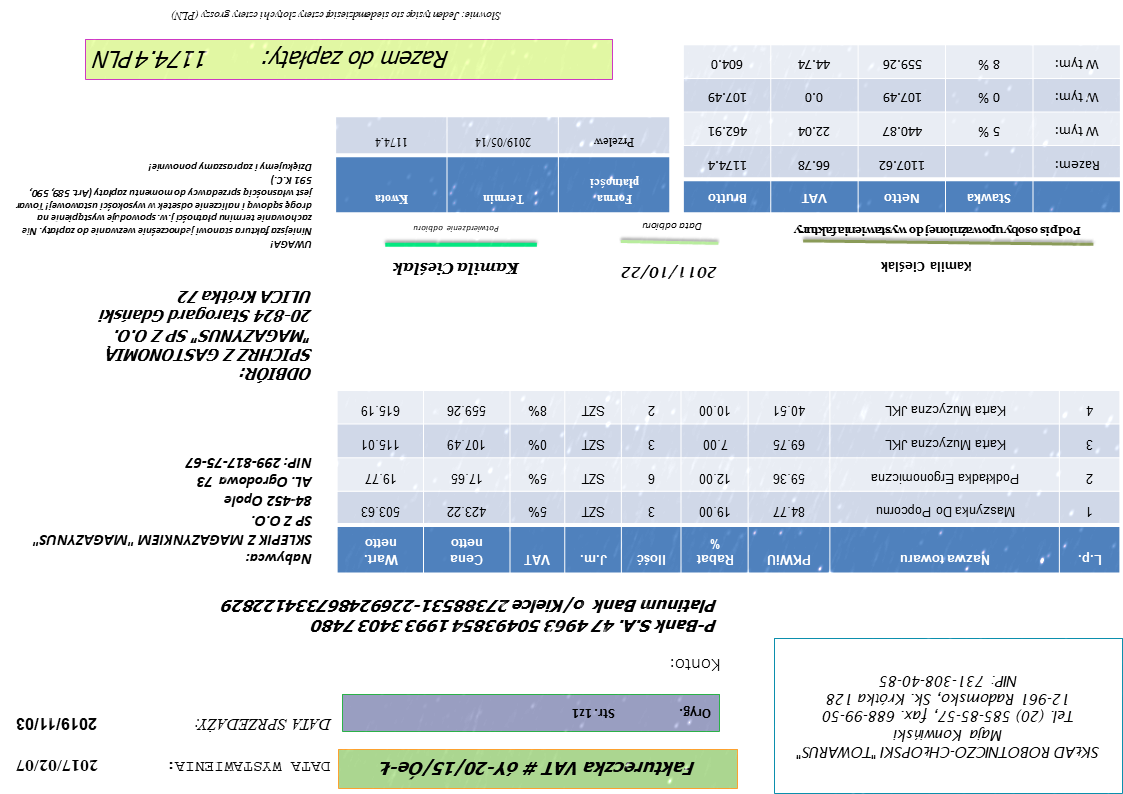Table: (337, 390, 1121, 575), (681, 45, 1121, 214), (335, 115, 671, 215)
TextBox: (30, 453, 315, 569), (12, 159, 315, 251), (793, 673, 1102, 763), (94, 287, 313, 384), (220, 596, 720, 637), (89, 45, 451, 76), (377, 755, 698, 781), (169, 7, 503, 26), (792, 221, 1085, 241), (166, 757, 335, 776), (571, 702, 714, 723), (389, 259, 521, 280), (192, 716, 333, 735), (619, 263, 719, 283), (14, 755, 100, 777), (14, 714, 100, 735), (879, 258, 975, 275), (412, 223, 502, 236), (669, 654, 724, 674), (642, 219, 705, 233)
